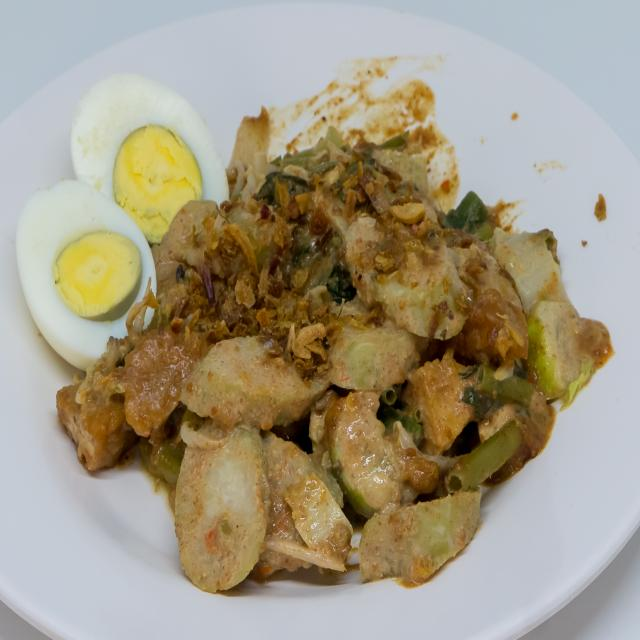Gado-Gado: (10, 55, 608, 605)
